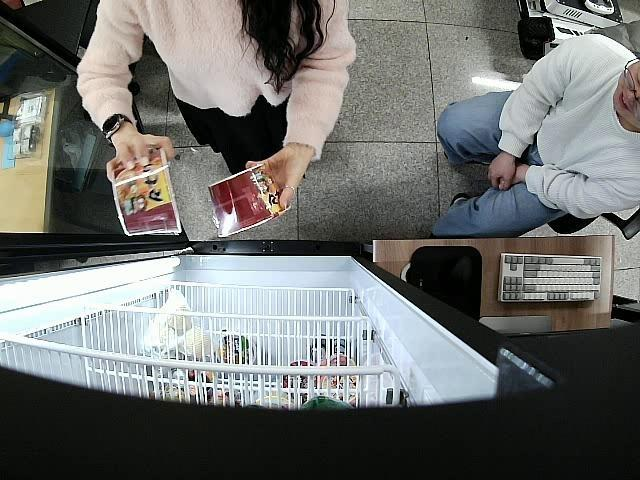05_nuguri_L: (108, 145, 184, 237), (208, 160, 288, 240)
